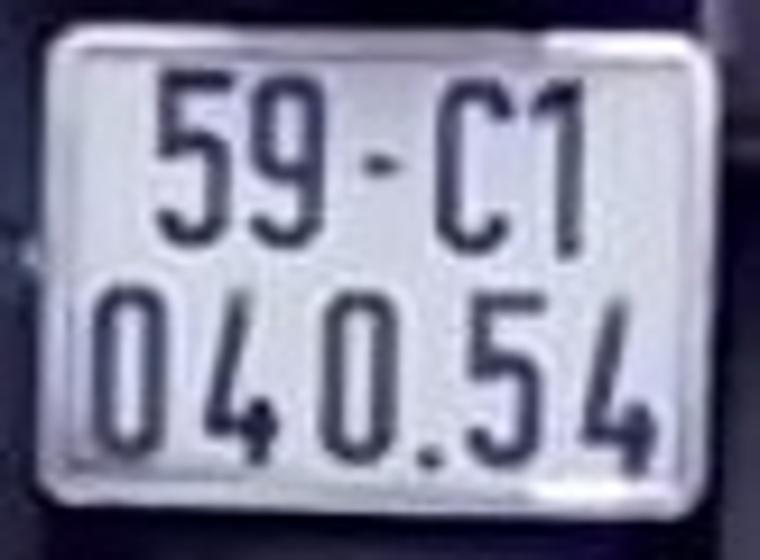-: (356, 150, 400, 182)
.: (419, 440, 450, 472)
0: (316, 282, 403, 461), (90, 278, 172, 462)
1: (530, 69, 596, 260)
4: (574, 301, 670, 476), (198, 291, 283, 469)
5: (458, 286, 556, 476), (151, 66, 241, 247)
9: (246, 69, 329, 245)
C: (431, 77, 521, 258)
